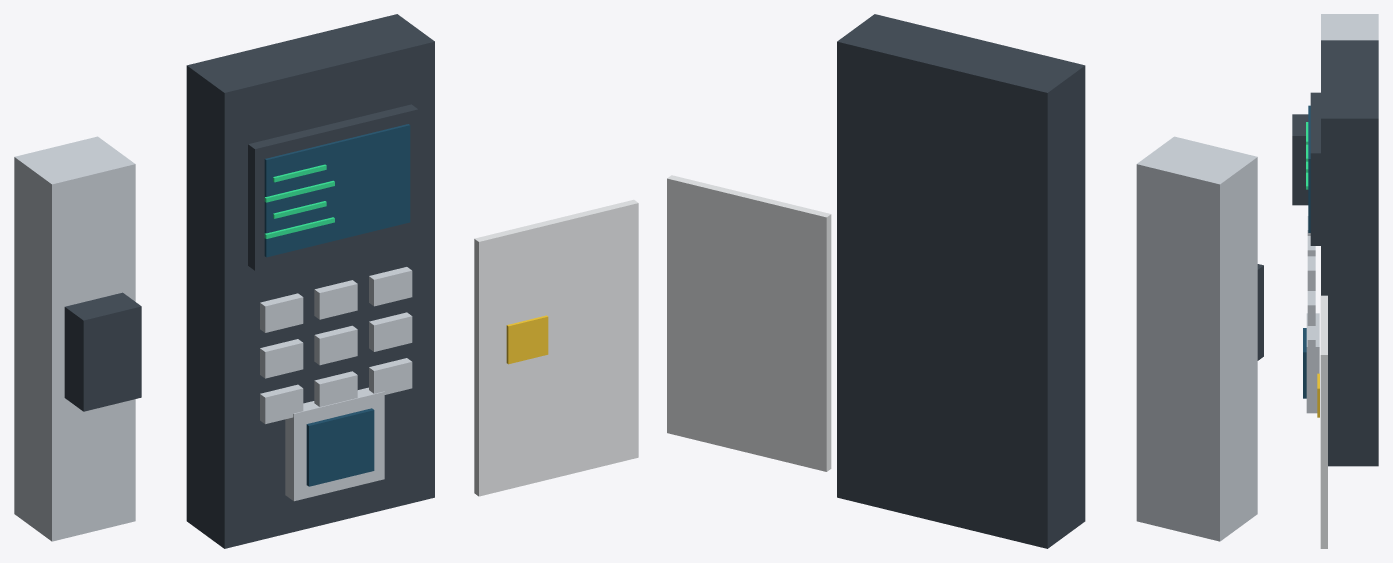
File: model-access.glb
3 renders of one model, left to right at view 1: azimuth 30°, elevation 25°; view 2: azimuth 150°, elevation 25°; view 3: azimuth 270°, elevation 25°, orthographic. The views are drawn at different scales.
Parts seen in each view (by area): view 1: Reader enclosure, RFID credential, Electric door strike, LCD glass, Keypad key (×9), Strike latch, Display bezel, Fingerprint bezel, Fingerprint sensor, Card chip; view 2: Reader enclosure, Electric door strike, RFID credential; view 3: Reader enclosure, RFID credential, Display bezel, Electric door strike, Strike latch, Keypad key (×4), Fingerprint bezel, LCD glass, Fingerprint sensor, Card chip.
Boxes of the visible parts, x1,y1,x2,y2 form: Reader enclosure: (186, 14, 434, 548); RFID credential: (474, 199, 638, 496); Electric door strike: (14, 136, 135, 541); LCD glass: (264, 124, 410, 257); Keypad key (×9): (260, 267, 412, 424); Strike latch: (64, 292, 141, 411); Display bezel: (248, 104, 418, 270); Fingerprint bezel: (285, 387, 384, 501); Fingerprint sensor: (306, 408, 374, 486); Card chip: (506, 315, 548, 364); Reader enclosure: (837, 14, 1085, 548); Electric door strike: (1136, 136, 1257, 541); RFID credential: (667, 175, 831, 471); Reader enclosure: (1321, 40, 1378, 466); RFID credential: (1320, 295, 1327, 548); Display bezel: (1310, 92, 1320, 245); Electric door strike: (1321, 14, 1378, 40); Strike latch: (1292, 114, 1308, 205); Keypad key (×4): (1307, 236, 1315, 360); Fingerprint bezel: (1306, 313, 1319, 413); LCD glass: (1308, 105, 1310, 232); Fingerprint sensor: (1303, 328, 1306, 398); Card chip: (1317, 373, 1319, 417).
Bounding box in the file's own units: 1.62 × 1.23 × 0.27.
